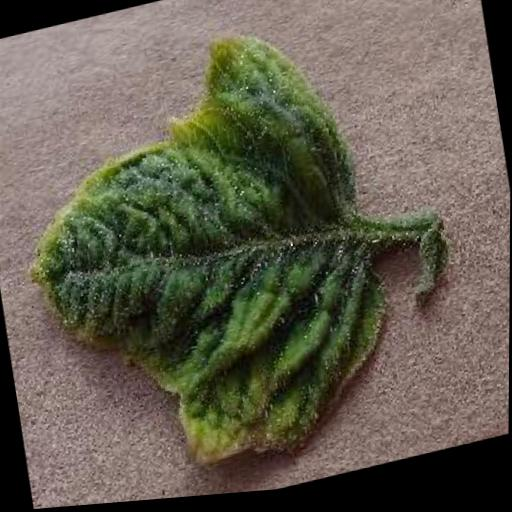Yellow Leaf Curl Virus: (0, 6, 408, 507)
